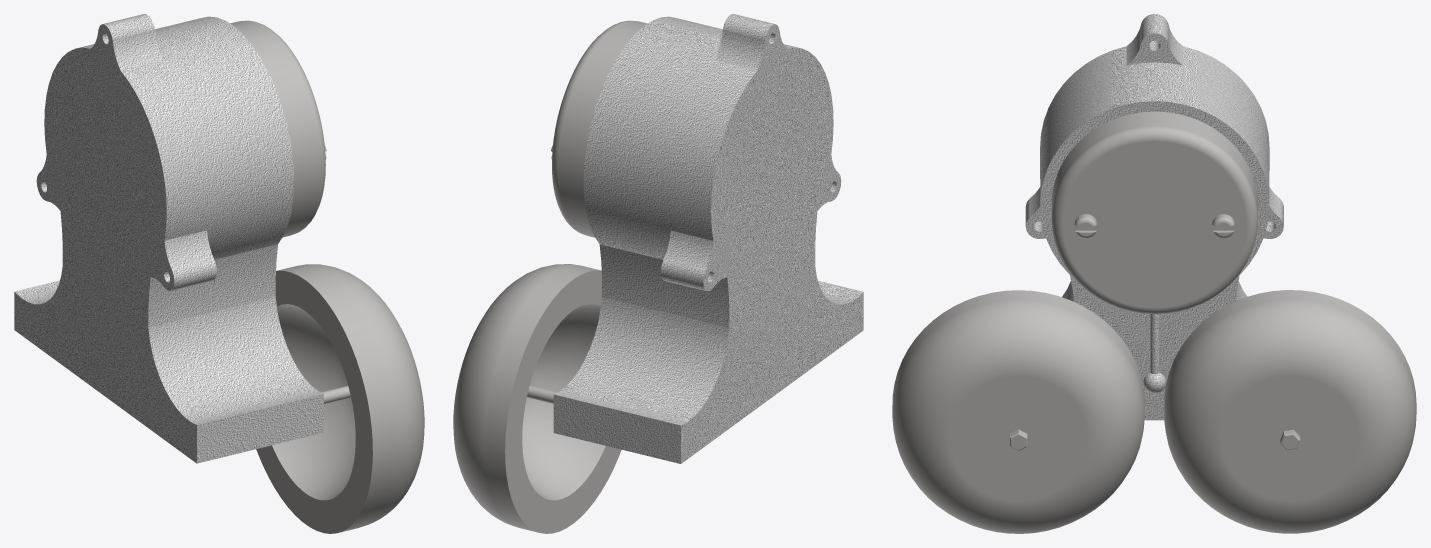
Rendered from campainha.glb.
The picture shows the model from 3 angles, left to right: view 1: azimuth 30°, elevation 25°; view 2: azimuth 150°, elevation 25°; view 3: azimuth 270°, elevation 25°; orthographic projection. The views are drawn at different scales.
Visible parts, largest first — view 1: Sólido1 (×3); view 2: Sólido1 (×3); view 3: Sólido1 (×4).
Part boxes in pixels (box(x1,y1,x2,y2)): Sólido1 (×3): box(14, 14, 424, 533); Sólido1 (×3): box(453, 14, 863, 533); Sólido1 (×4): box(892, 14, 1416, 533).
Bounding box in the file's own units: 0.099 × 0.2147 × 0.2284.
Materials: 4 (2 with a texture image).
